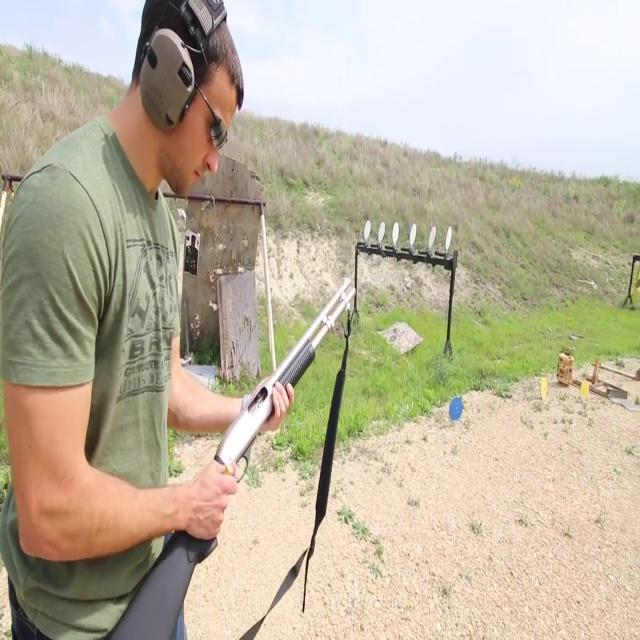Weapon: (94, 265, 365, 640)
